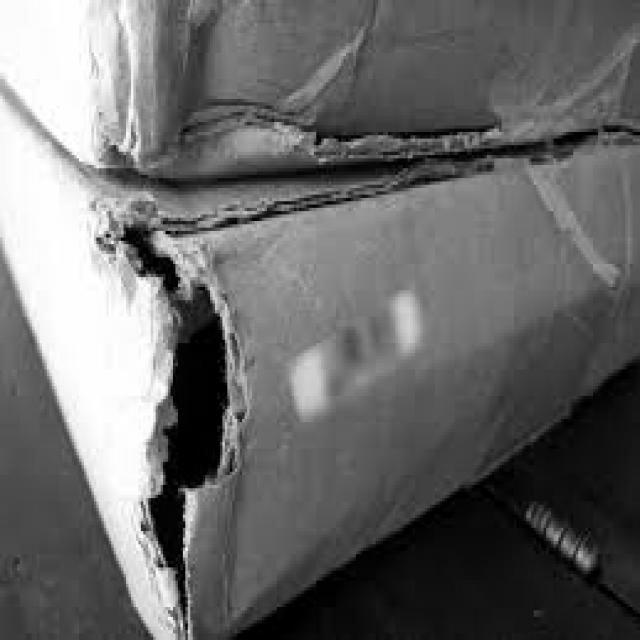hole: (107, 224, 251, 622)
